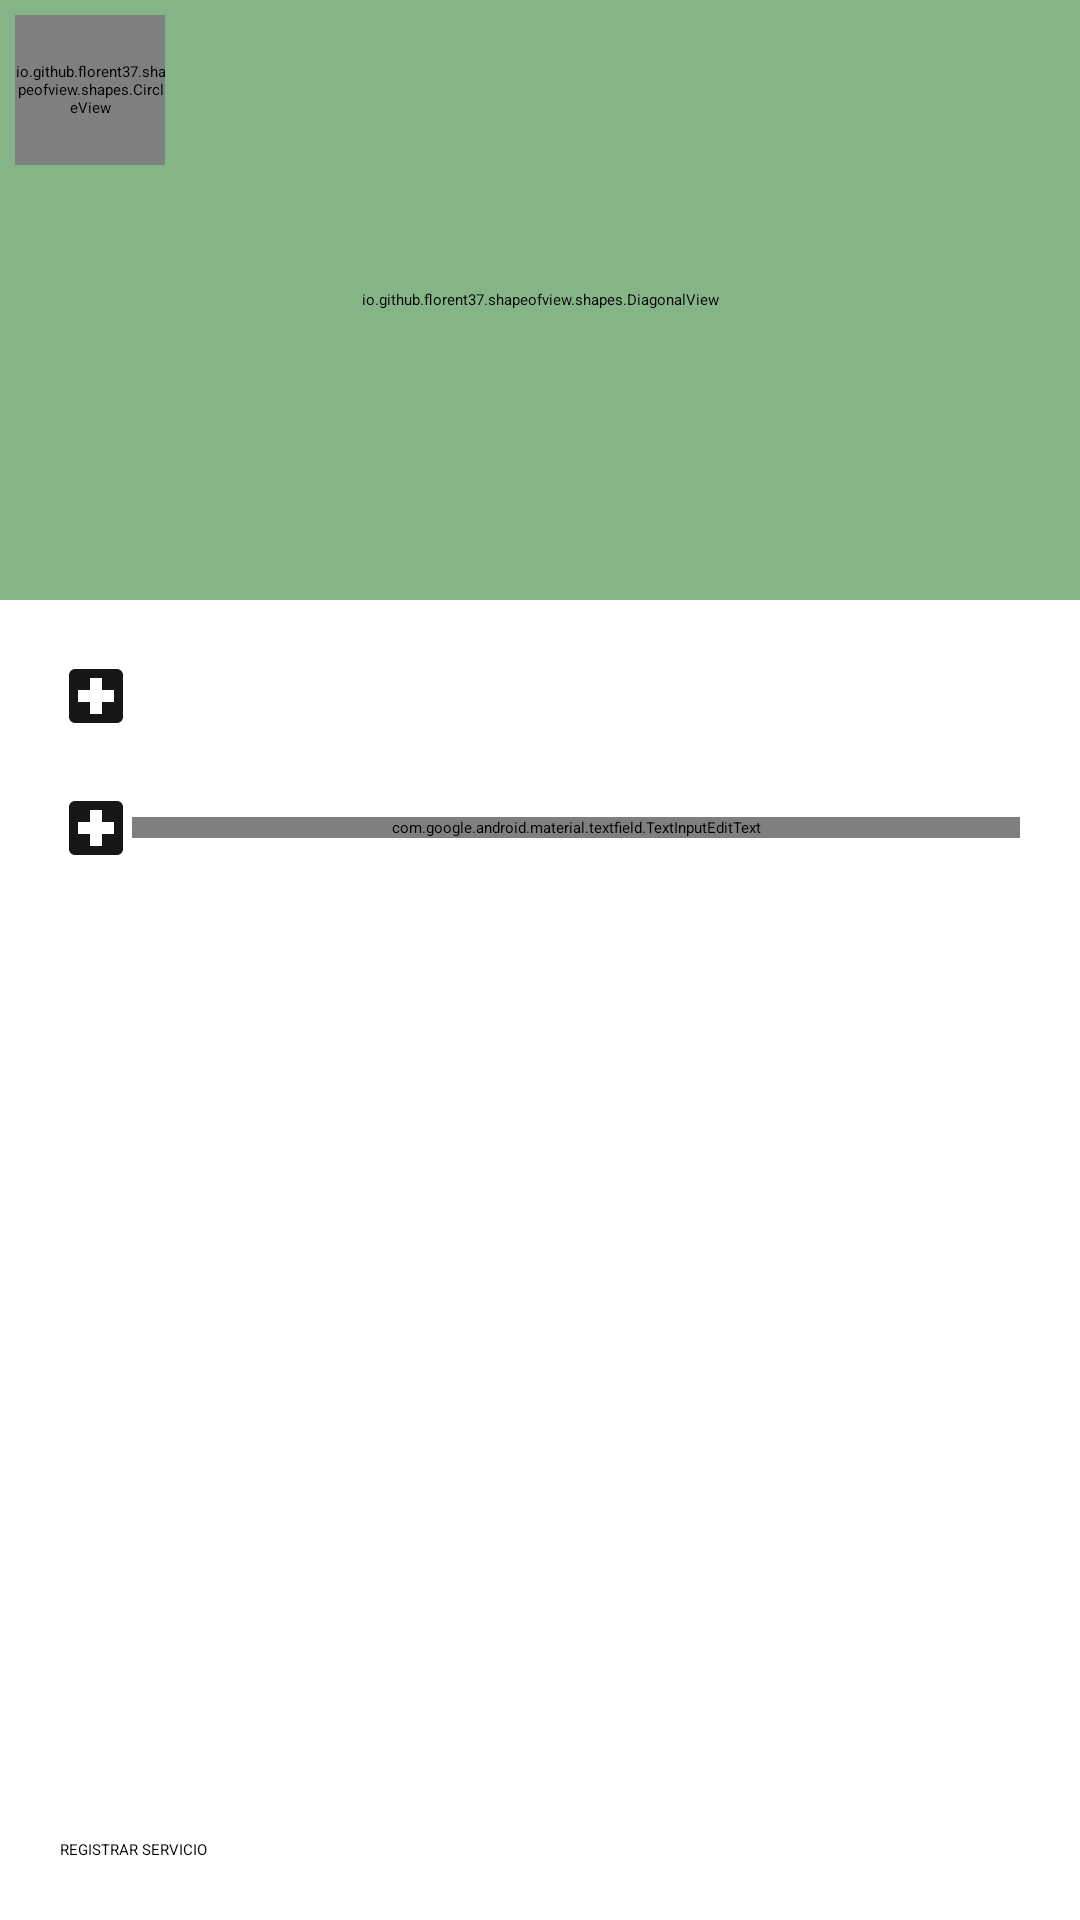

Icons on this 1080 x 1920 Android screen, each with its box as (x1, y1, x2, y2):
tratamiento: (69, 669, 123, 723), (69, 801, 123, 855)
